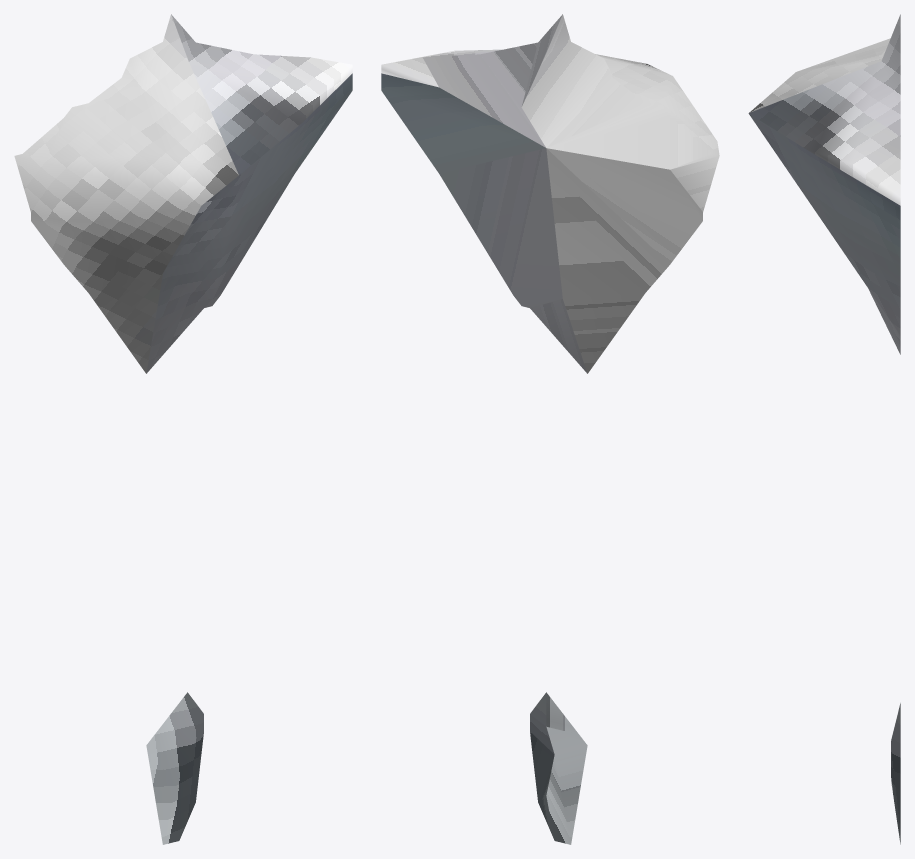
File: z20-167791-405220-h1-yup-uvflip-v3-world.glb
The picture shows the model from 3 angles, left to right: view 1: azimuth 30°, elevation 25°; view 2: azimuth 150°, elevation 25°; view 3: azimuth 270°, elevation 25°; orthographic projection.
Bounding box in the file's own units: 1.64 × 3.84 × 0.64.
1 material, 1 textured.
